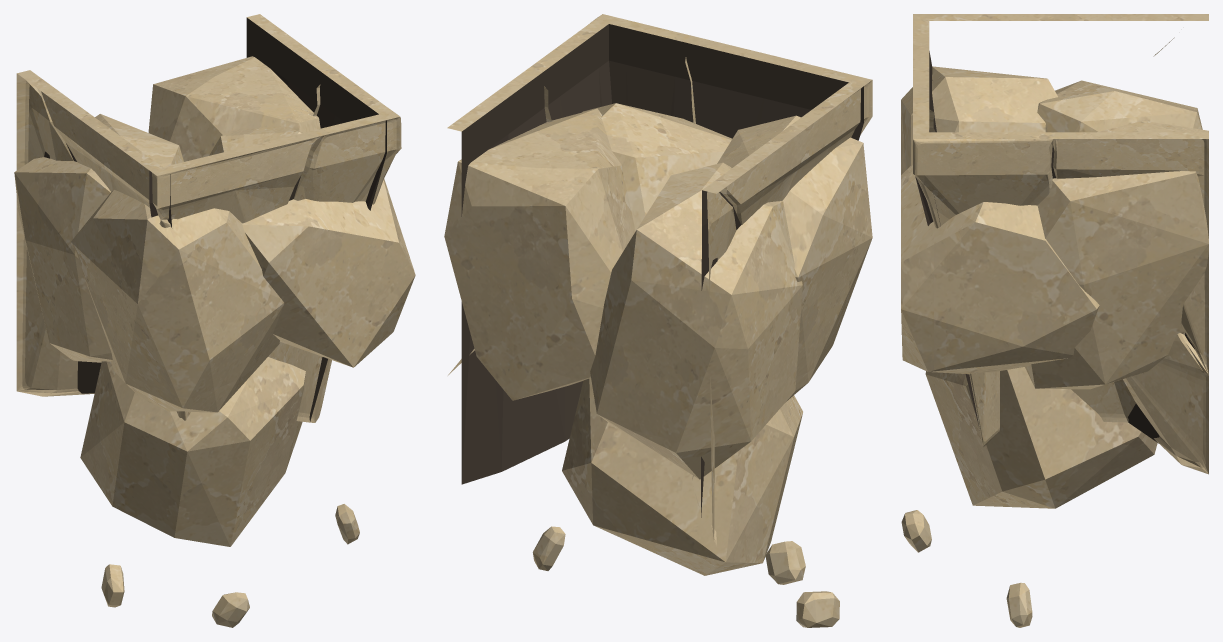
Rendered from ground_bottom_end_06.glb.
The picture shows the model from 3 angles, left to right: view 1: azimuth 30°, elevation 25°; view 2: azimuth 150°, elevation 25°; view 3: azimuth 270°, elevation 25°; orthographic projection. The views are drawn at different scales.
Visible parts, largest first — view 1: GroundBottomEnd06_Body; view 2: GroundBottomEnd06_Body; view 3: GroundBottomEnd06_Body.
Boxes of the visible parts, x1,y1,x2,y2 form: GroundBottomEnd06_Body: (14,14,415,627); GroundBottomEnd06_Body: (444,14,872,627); GroundBottomEnd06_Body: (901,14,1208,627).
Bounding box in the file's own units: 1.08 × 1.86 × 1.04.
11 materials, 10 textured.
